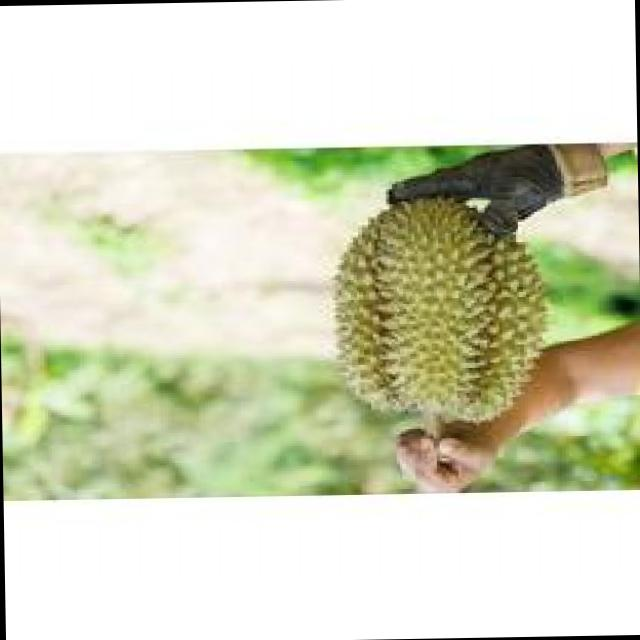fruit: (312, 174, 574, 442)
